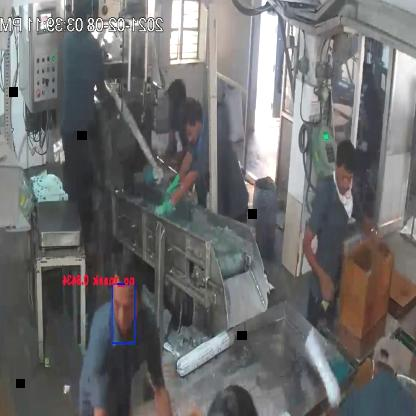glove: (148, 168, 202, 218)
no_glove: (300, 222, 341, 312), (352, 212, 391, 260), (150, 363, 178, 416), (86, 384, 112, 416)
